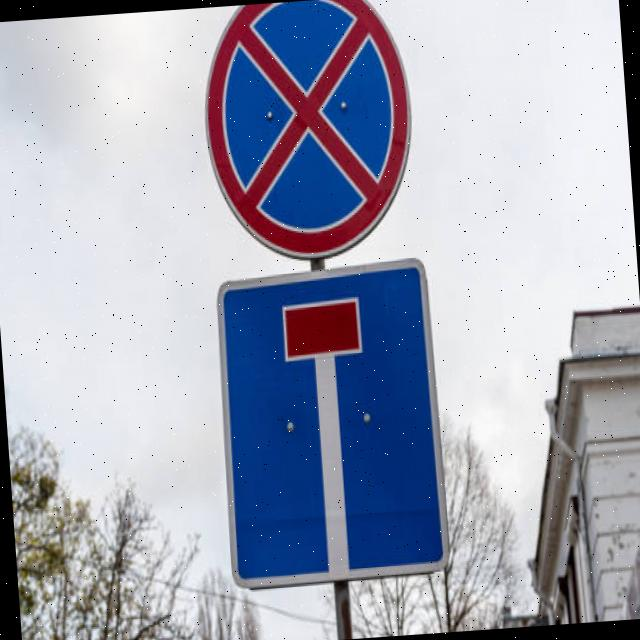no_parking: (190, 0, 431, 269)
